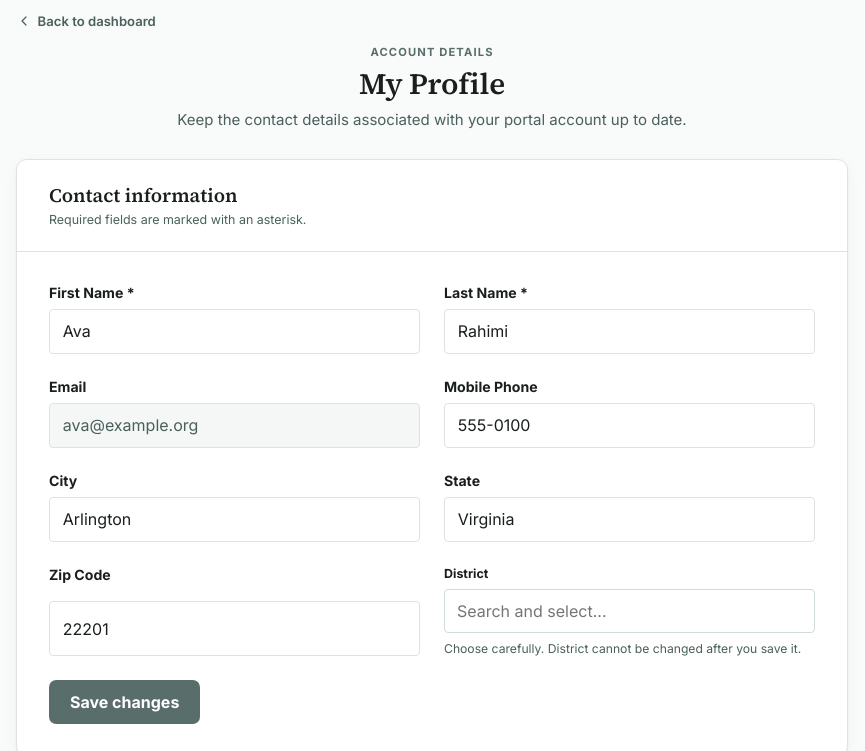
Scenario: lets the user select District once and locks it after a successful save
Step 1. Click the dropdown labelled "District" → x=630, y=611, box x1=451 y1=594 x2=808 y2=628
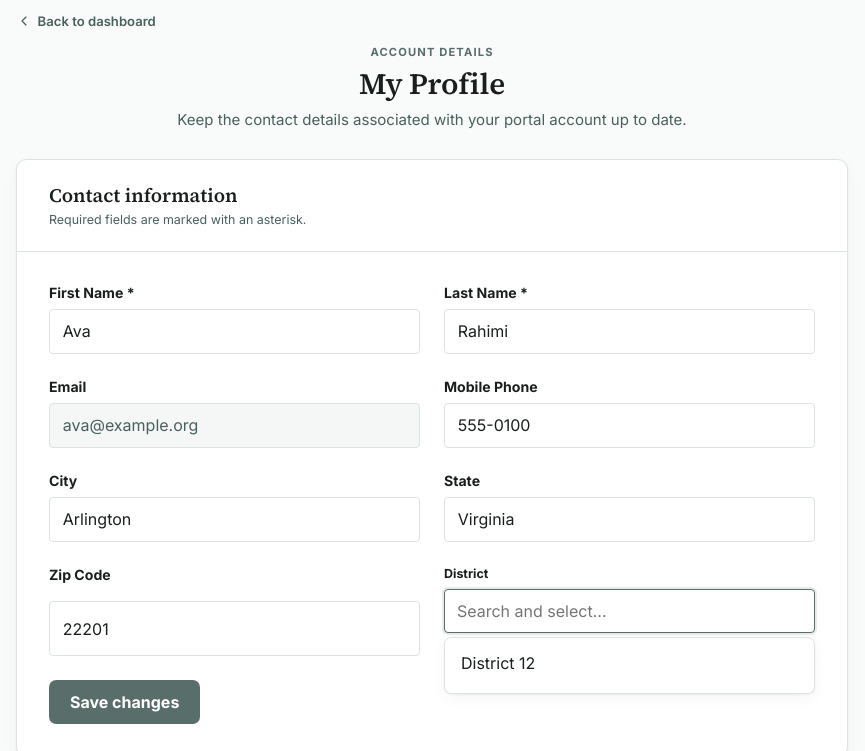
Step 2. Click the option "District 12" → x=498, y=662, box x1=451 y1=644 x2=808 y2=688
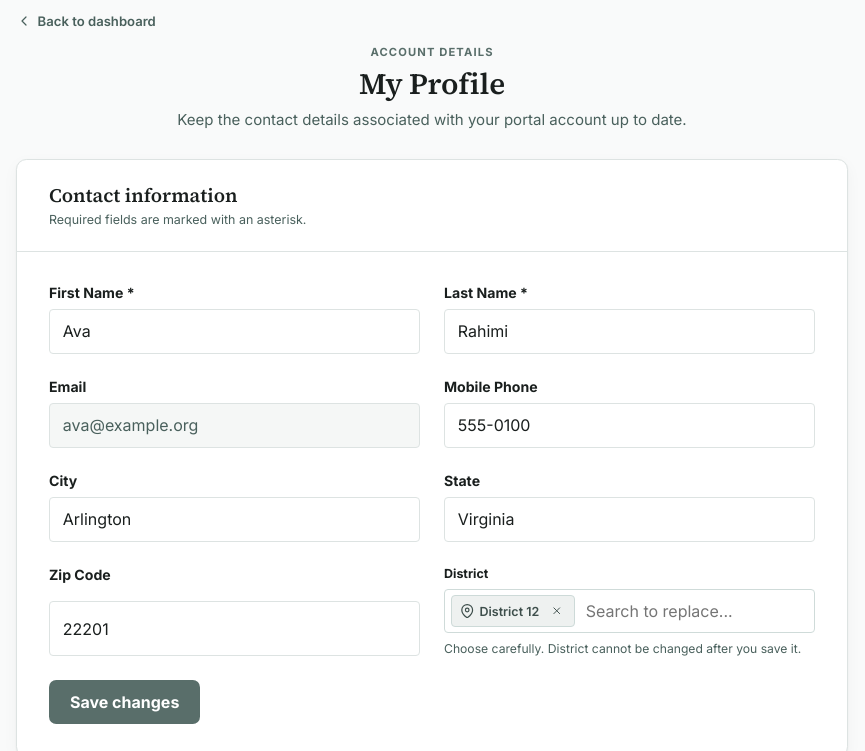
Step 3. Click the button "Save changes" → x=125, y=702, box x1=49 y1=680 x2=200 y2=724
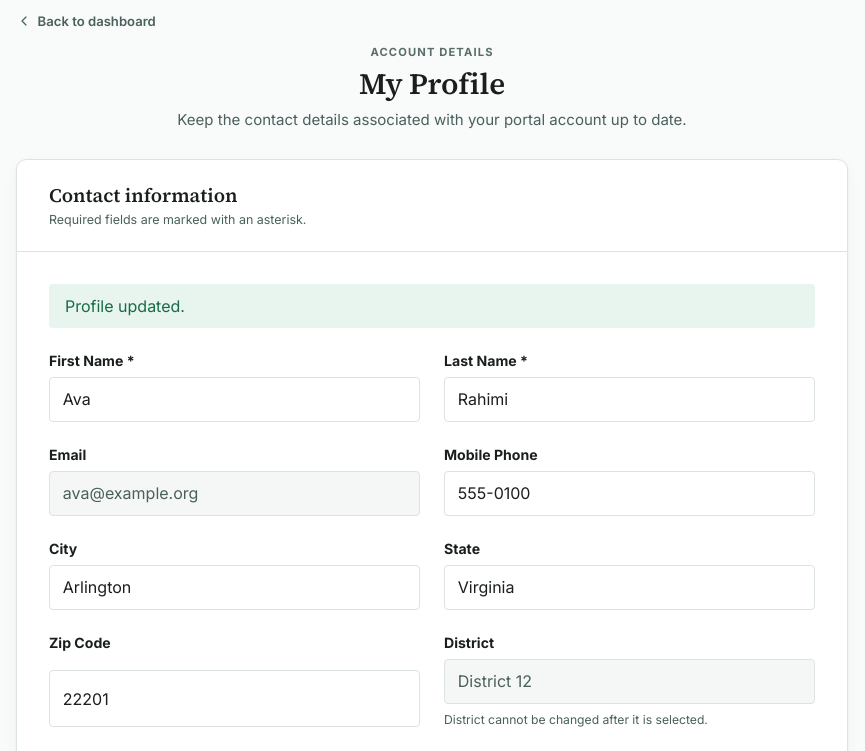
Result: the message reads "Profile updated." at x1=65 y1=296 x2=185 y2=316
Result: the field labelled "District" holds "District 12" at x1=444 y1=659 x2=815 y2=704
Step 4. Clear the field labelled "City" → x=234, y=587, box x1=49 y1=565 x2=420 y2=610
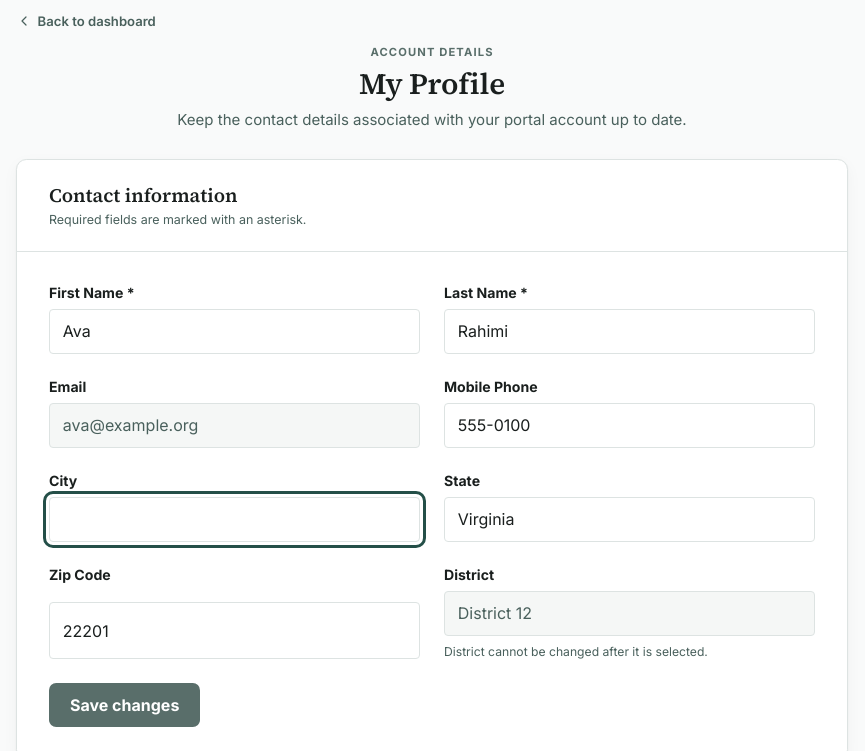
Step 5. Type "Alexandria" into the field labelled "City" → x=234, y=519, box x1=49 y1=497 x2=420 y2=542
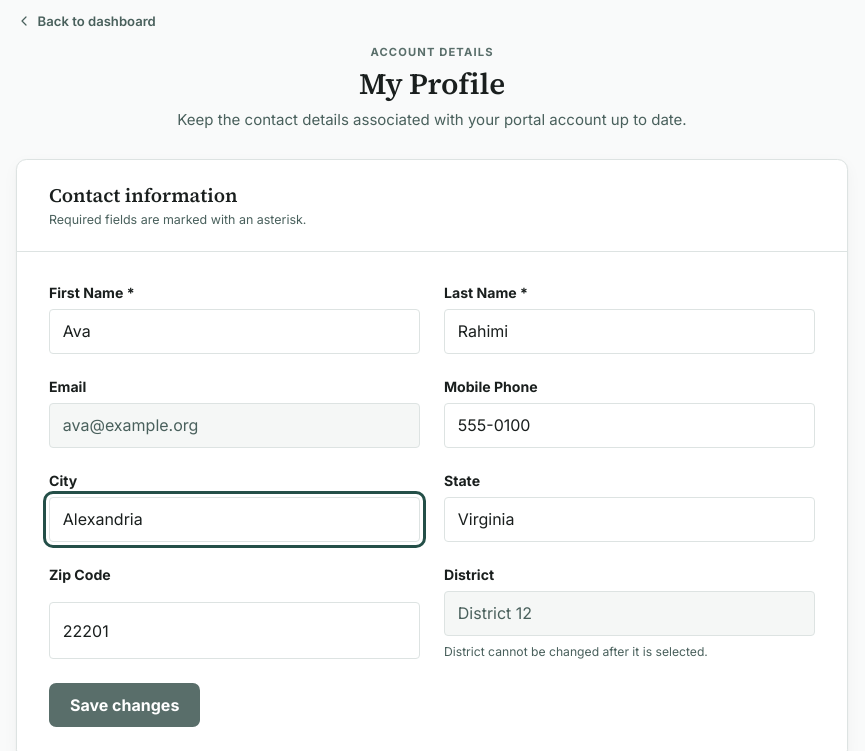
Step 6. Click the button "Save changes" → x=125, y=705, box x1=49 y1=683 x2=200 y2=727
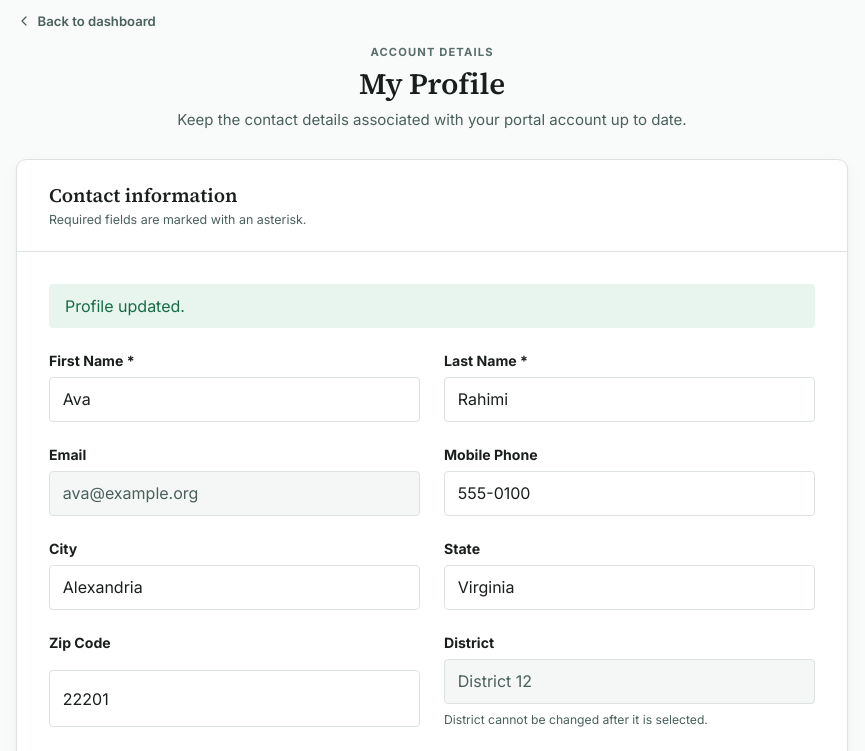
Result: the message reads "Profile updated." at x1=65 y1=296 x2=185 y2=316
